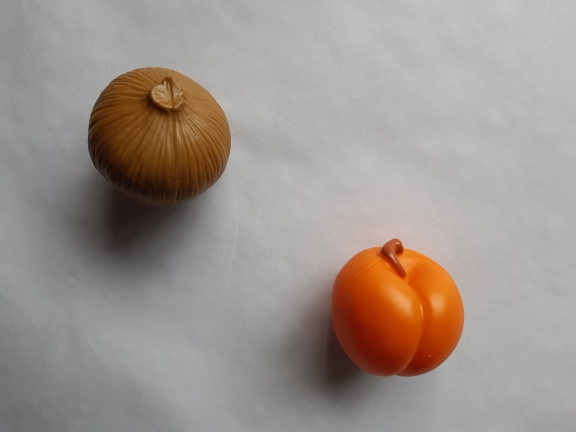apricot: (327, 232, 471, 381)
onion: (73, 60, 246, 219)
